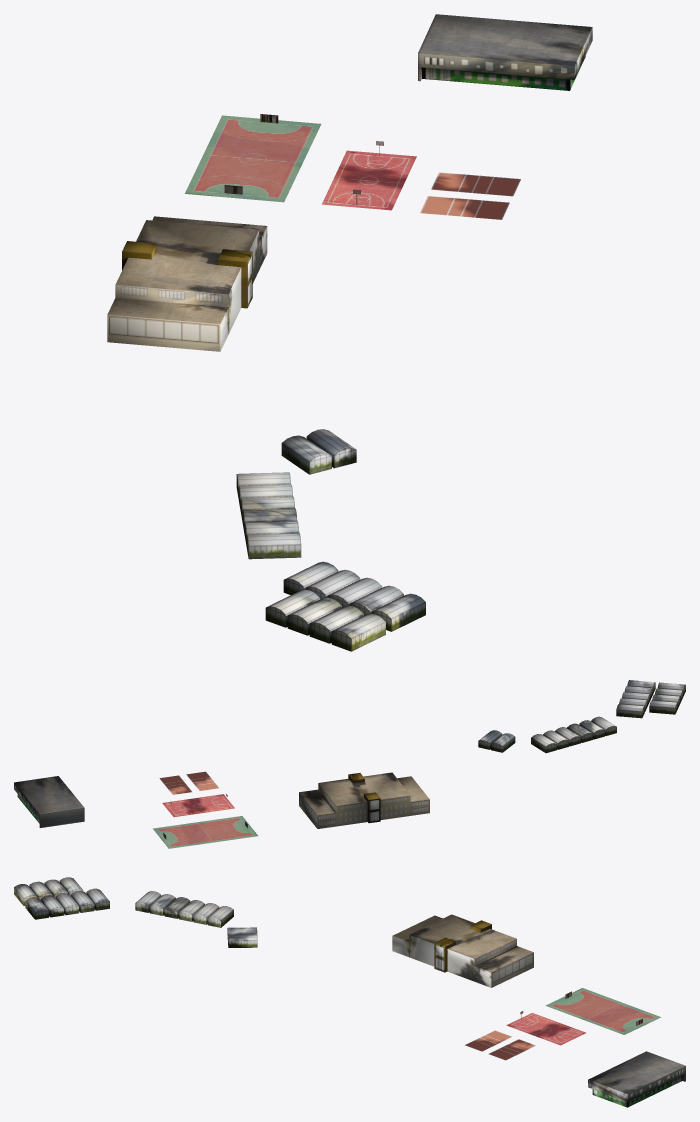
File: angar.obj
The picture shows the model from 3 angles, top to bottom: view 1: azimuth 30°, elevation 25°; view 2: azimuth 150°, elevation 25°; view 3: azimuth 270°, elevation 25°; orthographic projection. The views are drawn at different scales.
Parts seen in each view (by area): view 1: Playground_001; view 2: Playground_001; view 3: Playground_001.
Part boxes in pixels (x1,y1,x2,y2): Playground_001: (107,14,592,651); Playground_001: (14,680,685,848); Playground_001: (14,877,685,1107).
Bounding box in the file's own units: 20664 × 1113 × 26202.
